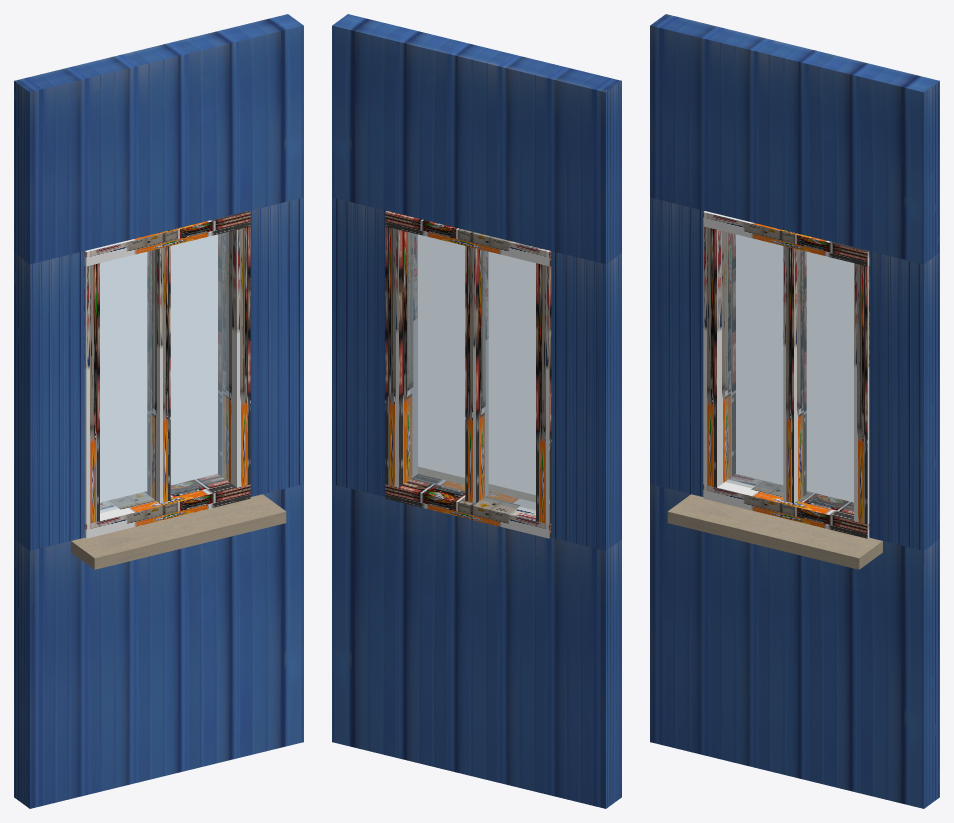
File: Wall_Window.fbx
The picture shows the model from 3 angles, left to right: view 1: azimuth 30°, elevation 25°; view 2: azimuth 150°, elevation 25°; view 3: azimuth 330°, elevation 25°; orthographic projection.
Parts seen in each view (by area): view 1: Wall_Window; view 2: Wall_Window; view 3: Wall_Window.
Boxes of the visible parts, x1,y1,x2,y2 form: Wall_Window: [14, 14, 303, 808]; Wall_Window: [332, 14, 621, 808]; Wall_Window: [650, 14, 939, 808].
Size of the model in its own units: 1 by 2.5 by 0.26.
